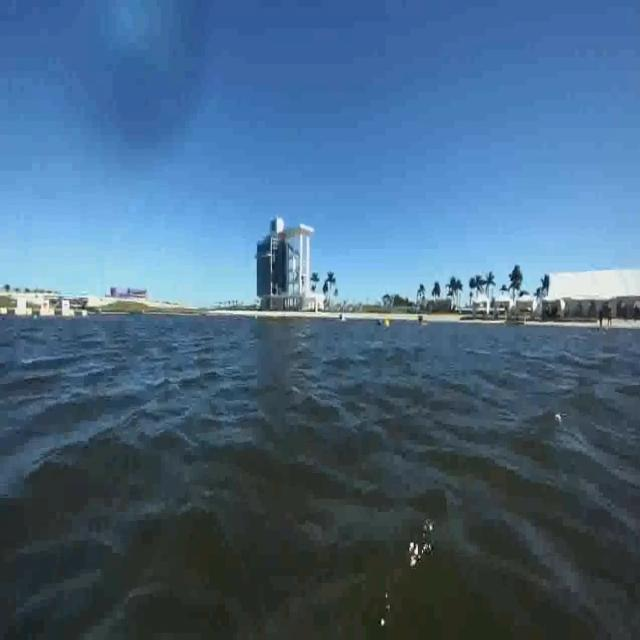yellow-buoy: (385, 317, 391, 329)
